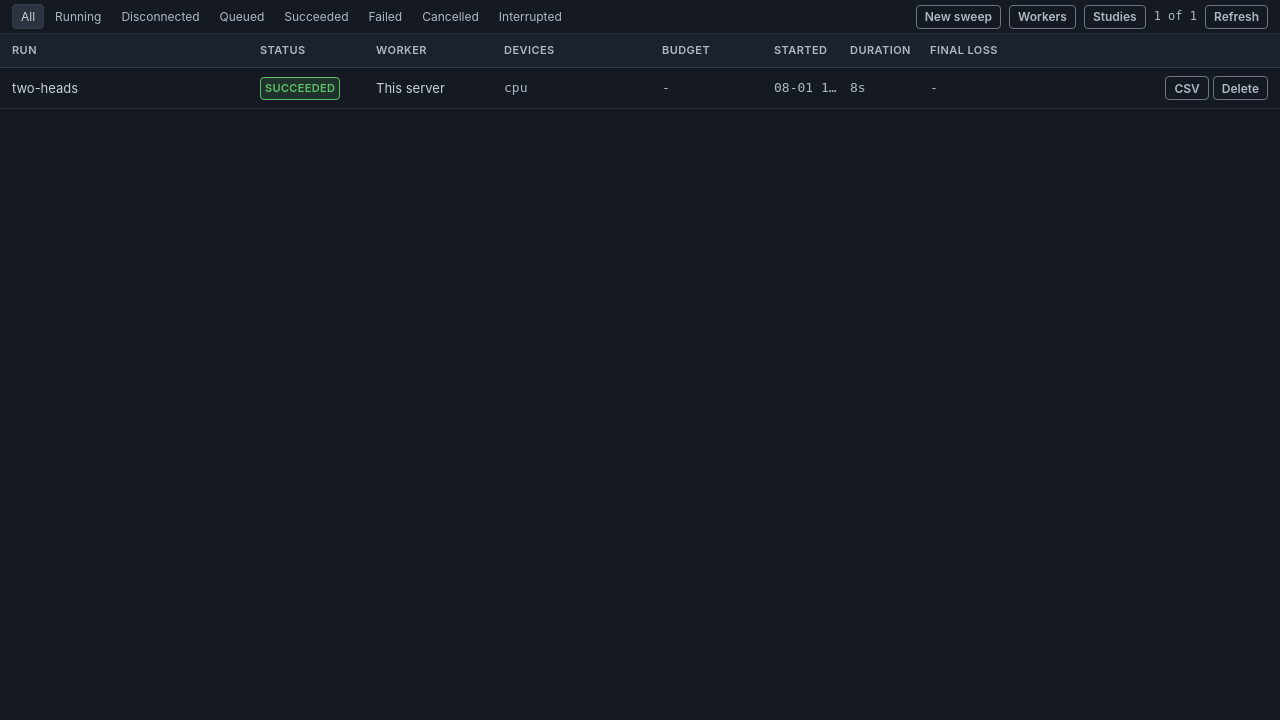
it: RunsPanel — detail edge cases › falls back to the raw token for a status it does not know
Expected: the text "two-heads" is shown, [12, 80, 78, 96]
Click the button with aria-label "two-heads — Succeeded" at (45, 88), box [0, 68, 1279, 109]
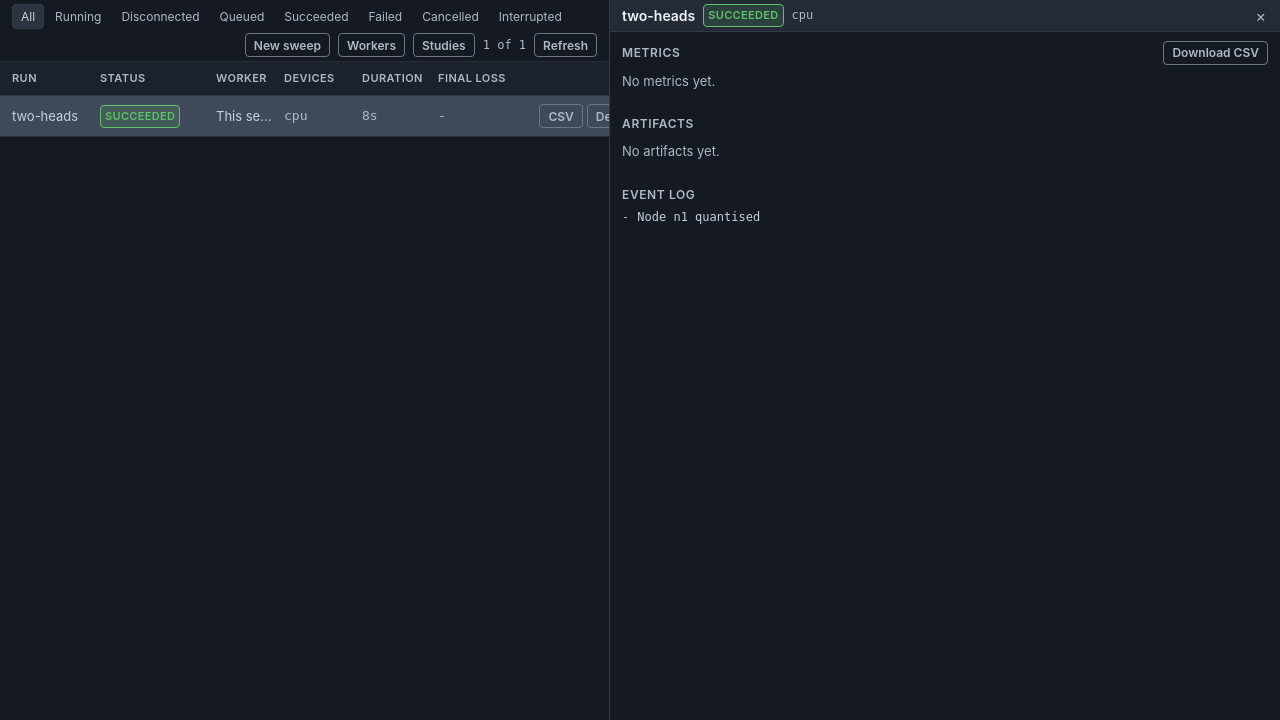
Expected: the text "Node n1 quantised" is shown, [637, 208, 760, 227]
